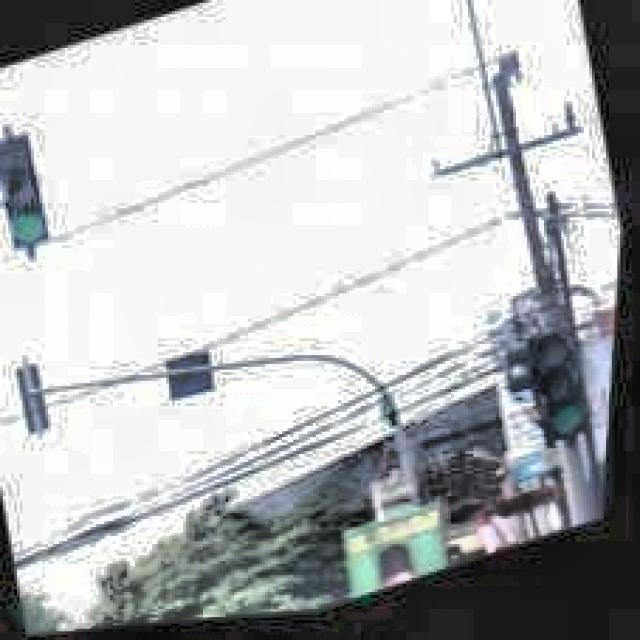green: (524, 331, 604, 458), (0, 122, 68, 260)
